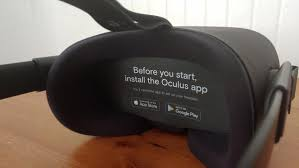oculus: (44, 22, 285, 144)
